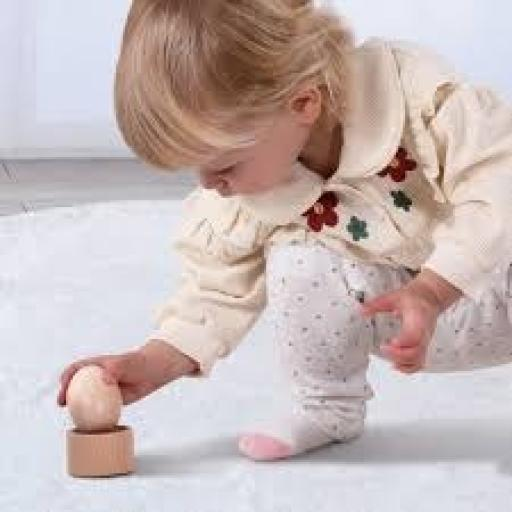baby: (60, 0, 511, 459)
